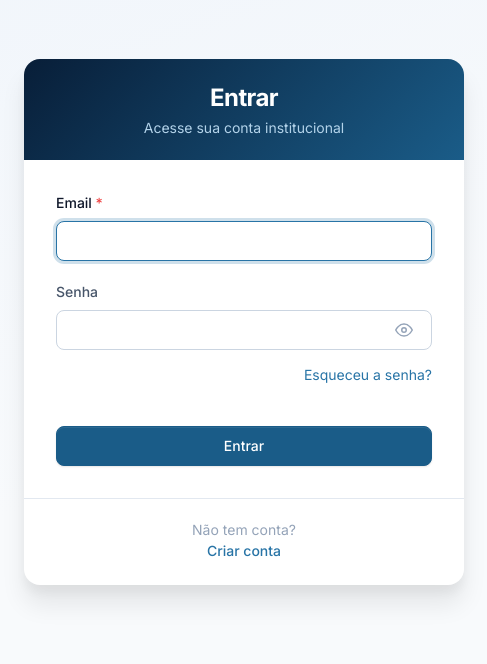
it: LoginPage › shows error banner on login failure
Type "bad@test.com" into the field labelled "Email". click: (244, 241)
box: [56,221,432,261]
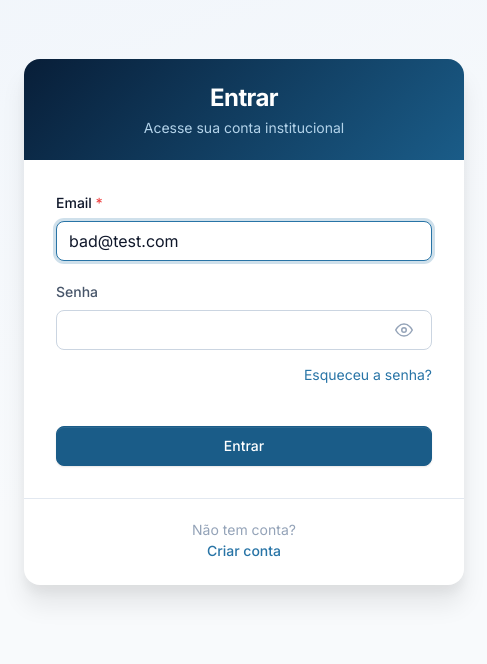
Type "wrong" into the password field labelled "Senha". click: (244, 330)
box: [56,310,432,350]
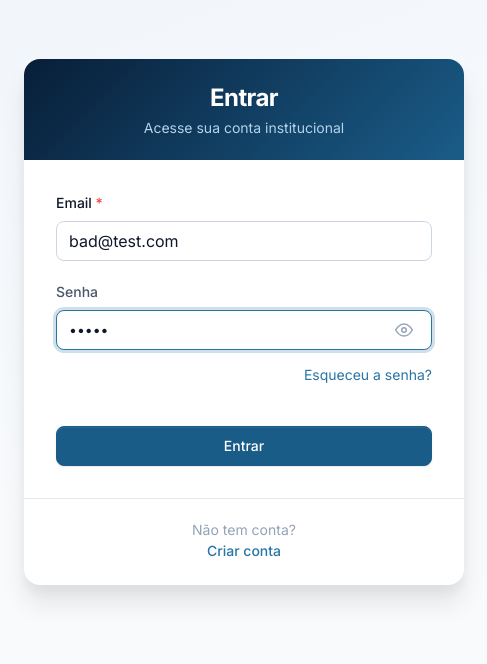
Click the button "Entrar". click: click(244, 446)
box: [56,426,432,466]
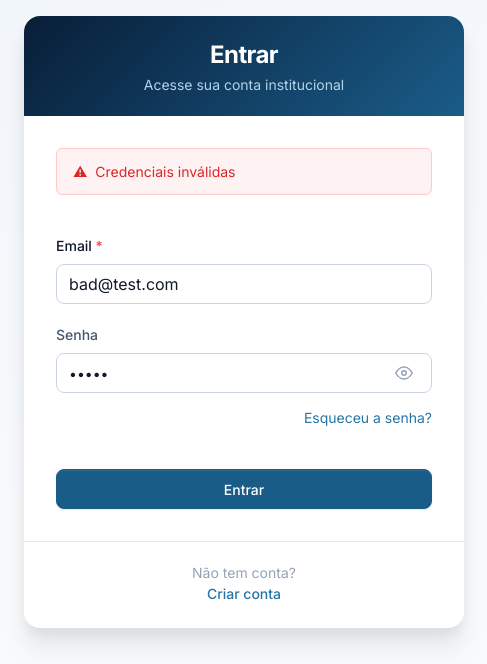
Expected: the message shows "Credenciais inválidas", [95,163,236,180]
